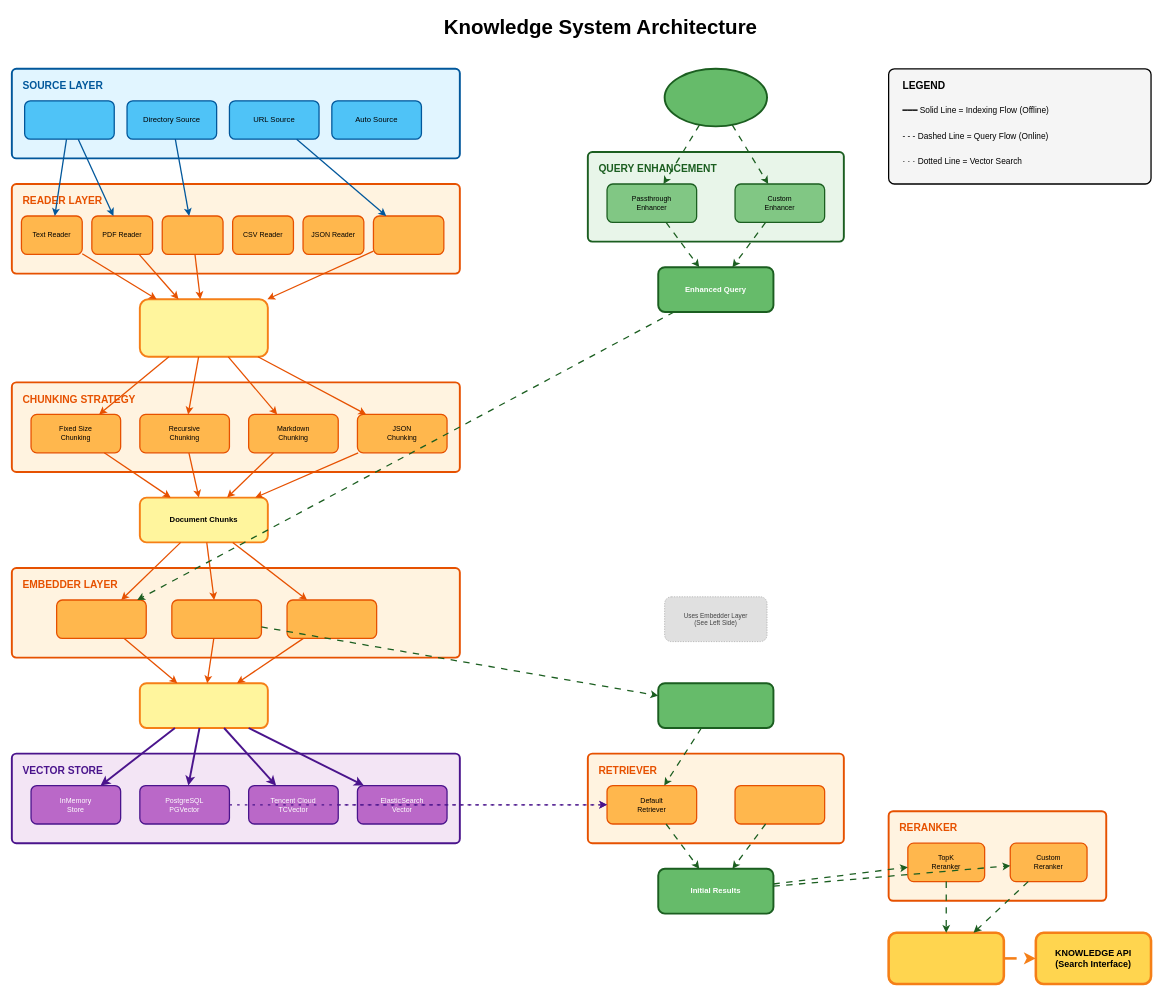
Image size: 1164x996. Some labels were removed from this diagram. The shapes that lost their labels are listed below. From the top down, each one's centre as x and y in pixels, then its label:
At (x=715, y=97): "User Query".
At (x=69, y=120): "File Source".
At (x=192, y=235): "DOCX Reader".
At (x=408, y=235): "Markdown Reader".
At (x=203, y=327): "Raw Document (ID, Name, Content, Metadata, Timestamps)".
At (x=101, y=619): "OpenAI Embedder".
At (x=216, y=619): "Gemini Embedder".
At (x=331, y=619): "Custom Embedder".
At (x=203, y=705): "Vector Embeddings".
At (x=715, y=705): "Query Embedding".
At (x=779, y=804): "Custom Retriever".
At (x=946, y=958): "FINAL RESULTS".
